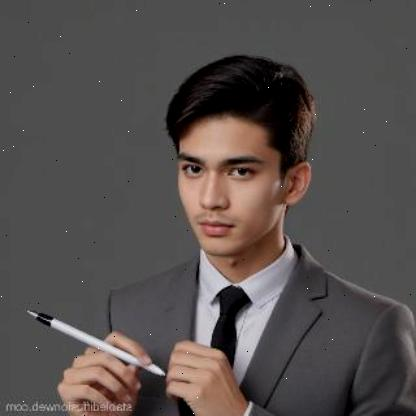person: (53, 47, 416, 416)
